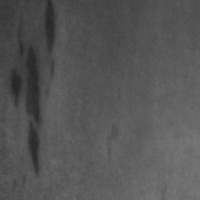inclusion: (2, 0, 57, 181), (40, 0, 64, 82), (101, 115, 125, 162)
